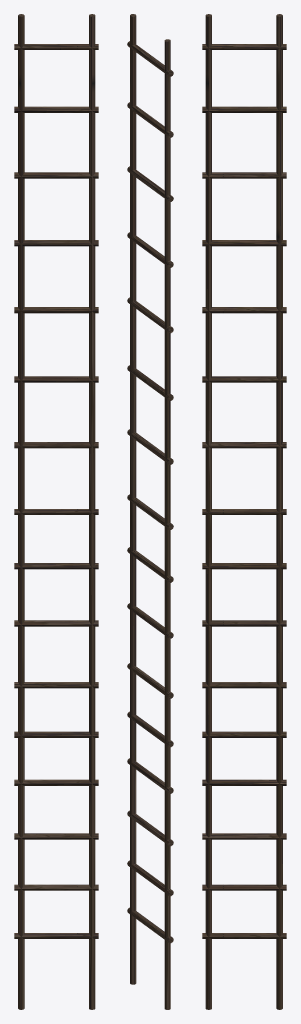
File: ladder.fbx
3 renders of one model, left to right at view 1: azimuth 90°, elevation 25°; view 2: azimuth 210°, elevation 25°; view 3: azimuth 270°, elevation 25°, orthographic. The views are drawn at different scales.
Visible parts, largest first — view 1: Cylinder.005, Cylinder.004, Cylinder.016, Cylinder.018, Cylinder.017, Cylinder.012, Cylinder.011, Cylinder.010, Cylinder.009, Cylinder.019, Cylinder.014, Cylinder.013 (+6 smaller); view 2: Cylinder.004, Cylinder.005, Cylinder.020, Cylinder.017, Cylinder.016, Cylinder.011, Cylinder.010, Cylinder.008, Cylinder.015, Cylinder.014, Cylinder.013, Cylinder.007 (+6 smaller); view 3: Cylinder.005, Cylinder.004, Cylinder.016, Cylinder.018, Cylinder.017, Cylinder.012, Cylinder.011, Cylinder.010, Cylinder.009, Cylinder.019, Cylinder.014, Cylinder.013 (+6 smaller).
Boxes of the visible parts, box(x1,y1,x2,y2) form: Cylinder.005: box(89, 14, 95, 1009); Cylinder.004: box(18, 14, 24, 1009); Cylinder.016: box(14, 563, 98, 569); Cylinder.018: box(14, 307, 98, 313); Cylinder.017: box(14, 442, 98, 448); Cylinder.012: box(14, 682, 98, 688); Cylinder.011: box(14, 240, 98, 246); Cylinder.010: box(14, 376, 98, 382); Cylinder.009: box(14, 620, 98, 626); Cylinder.019: box(14, 172, 98, 178); Cylinder.014: box(14, 833, 98, 839); Cylinder.013: box(14, 884, 98, 890); Cylinder.004: box(164, 39, 170, 1009); Cylinder.005: box(130, 14, 136, 984); Cylinder.020: box(127, 102, 173, 137); Cylinder.017: box(127, 429, 173, 464); Cylinder.016: box(127, 547, 173, 582); Cylinder.011: box(127, 232, 173, 267); Cylinder.010: box(127, 365, 173, 400); Cylinder.008: box(127, 758, 173, 793); Cylinder.015: box(127, 711, 173, 747); Cylinder.014: box(127, 810, 173, 846); Cylinder.013: box(127, 860, 173, 895); Cylinder.007: box(127, 907, 173, 943); Cylinder.005: box(205, 14, 211, 1009); Cylinder.004: box(276, 14, 282, 1009); Cylinder.016: box(202, 563, 286, 569); Cylinder.018: box(202, 307, 286, 313); Cylinder.017: box(202, 442, 286, 448); Cylinder.012: box(202, 682, 286, 688); Cylinder.011: box(202, 240, 286, 246); Cylinder.010: box(202, 376, 286, 382); Cylinder.009: box(202, 620, 286, 626); Cylinder.019: box(202, 172, 286, 178); Cylinder.014: box(202, 833, 286, 839); Cylinder.013: box(202, 884, 286, 890).
Size of the model in its own units: 6.56 by 1089 by 83.86.
1 material, 1 textured.
